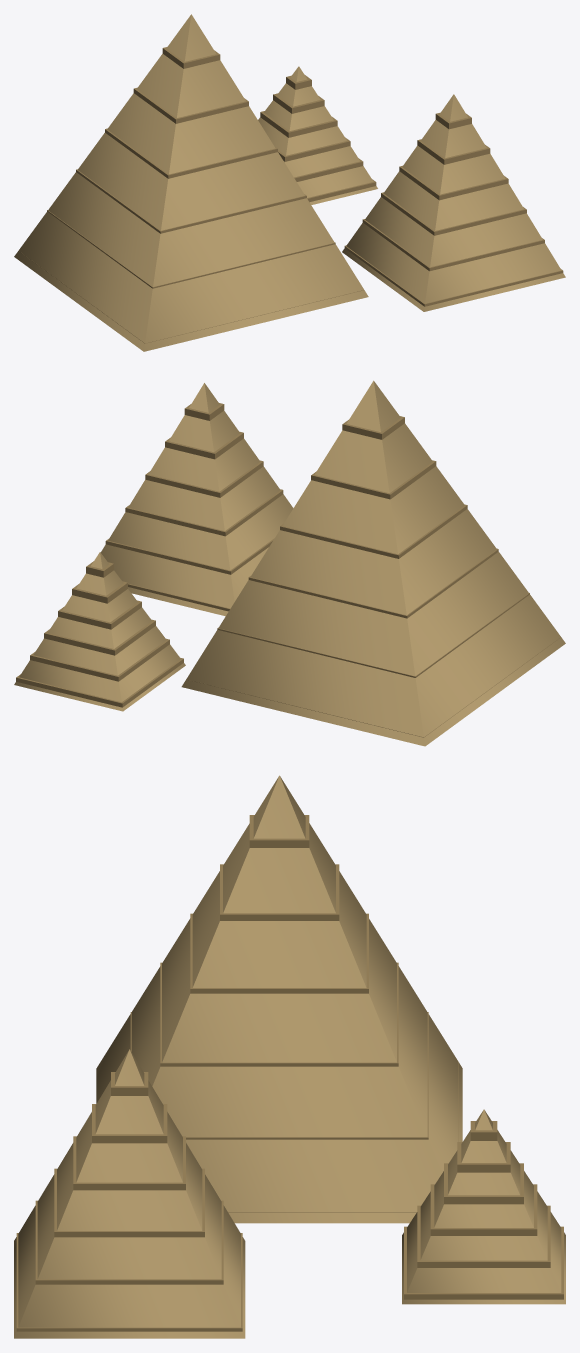
File: custom-wonder-piramit.glb
3 renders of one model, top to bottom at view 1: azimuth 30°, elevation 25°; view 2: azimuth 150°, elevation 25°; view 3: azimuth 270°, elevation 25°, orthographic. The views are drawn at different scales.
Parts seen in each view (by area): view 1: custom-wonder-piramit; view 2: custom-wonder-piramit; view 3: custom-wonder-piramit.
Part boxes in pixels (<box>): custom-wonder-piramit: <box>14,14,565,351</box>; custom-wonder-piramit: <box>14,380,565,746</box>; custom-wonder-piramit: <box>14,775,565,1338</box>.
Bounding box in the file's own units: 1 × 0.6394 × 0.8631.
